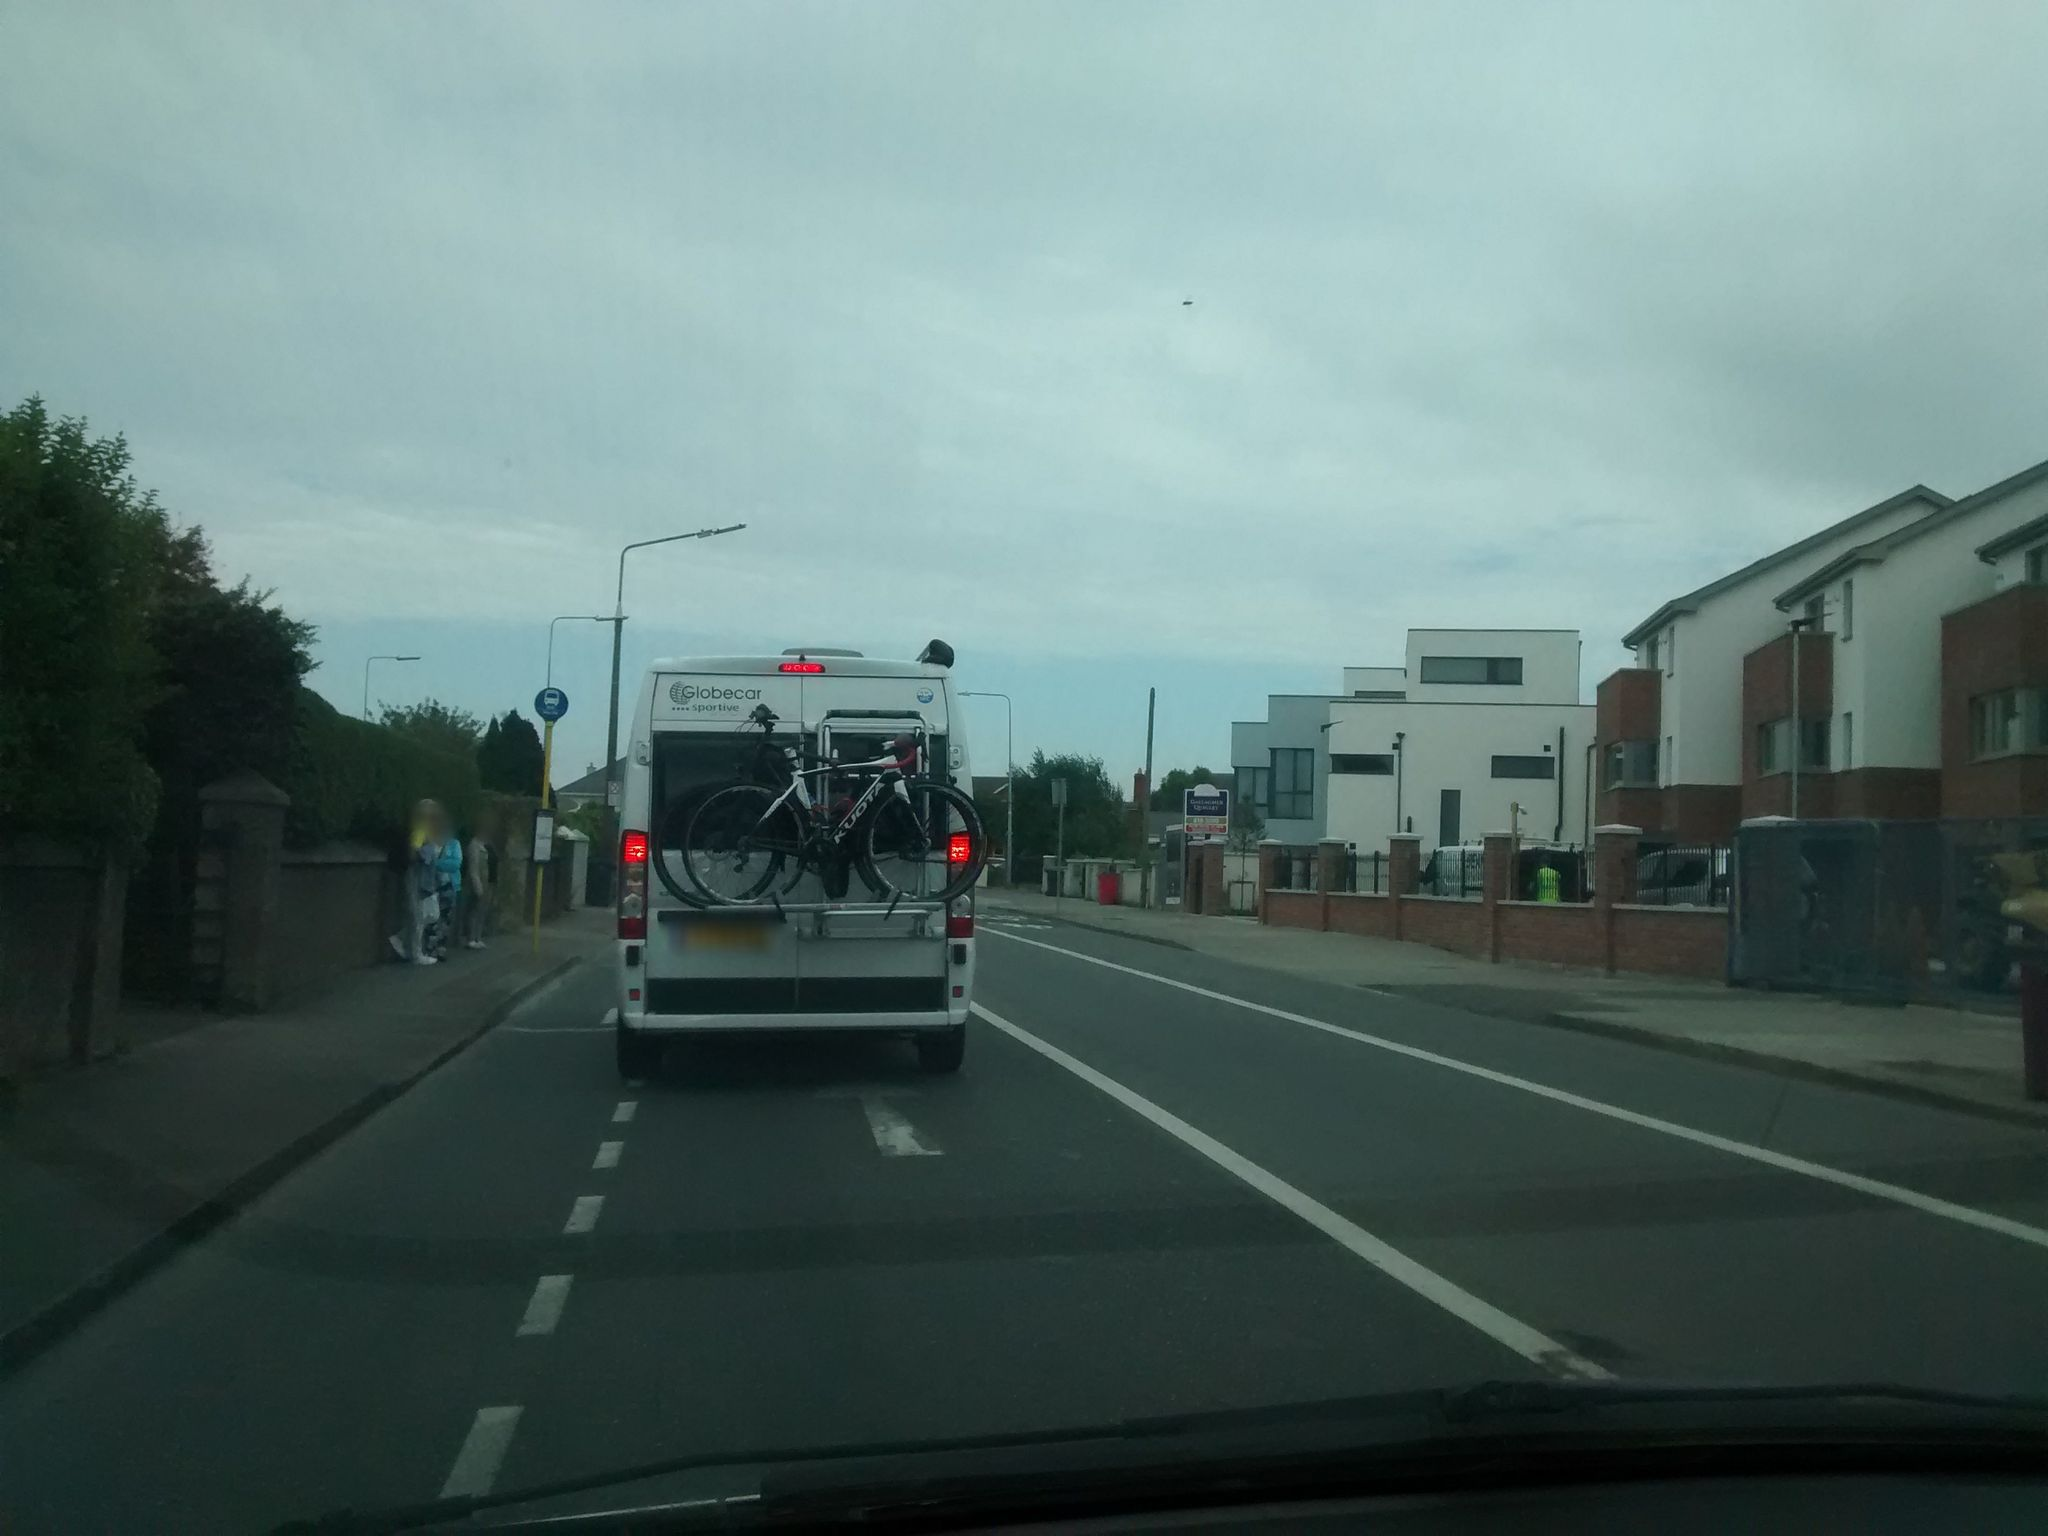property sign: (1177, 766, 1235, 845)
